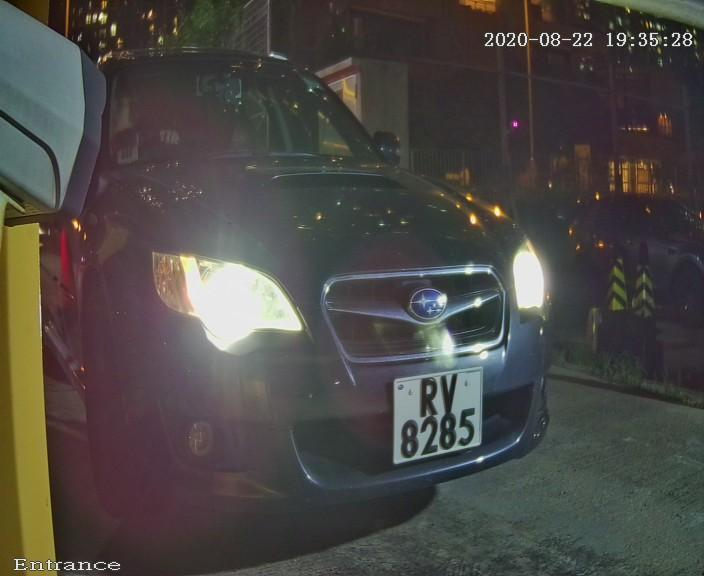Car: (41, 1, 607, 553)
License Plate: (384, 363, 488, 471)
